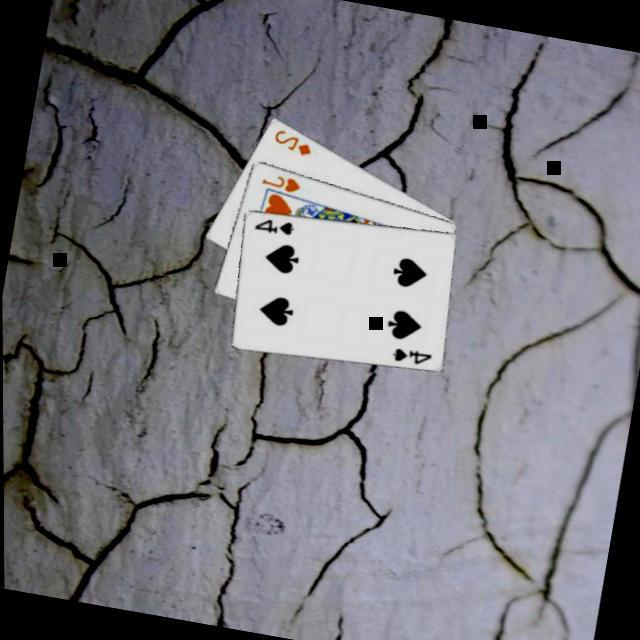2D: (270, 125, 319, 160)
4S: (251, 212, 299, 240), (388, 344, 436, 371)
JH: (258, 170, 305, 197)
